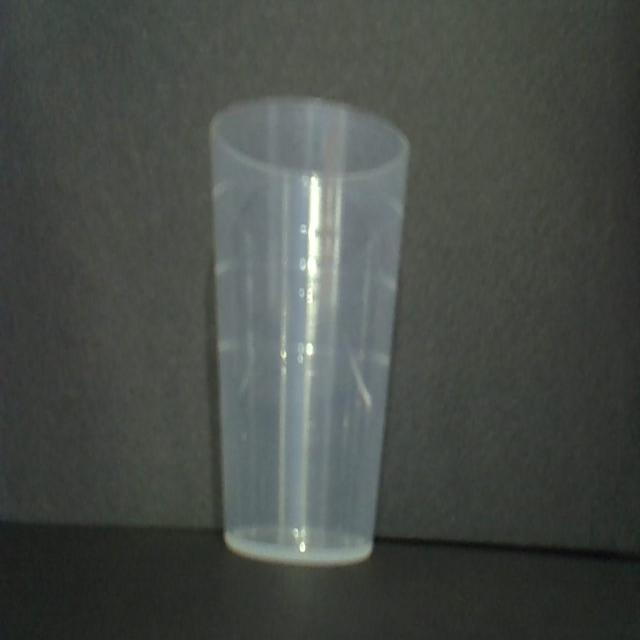cup: (201, 95, 410, 569)
